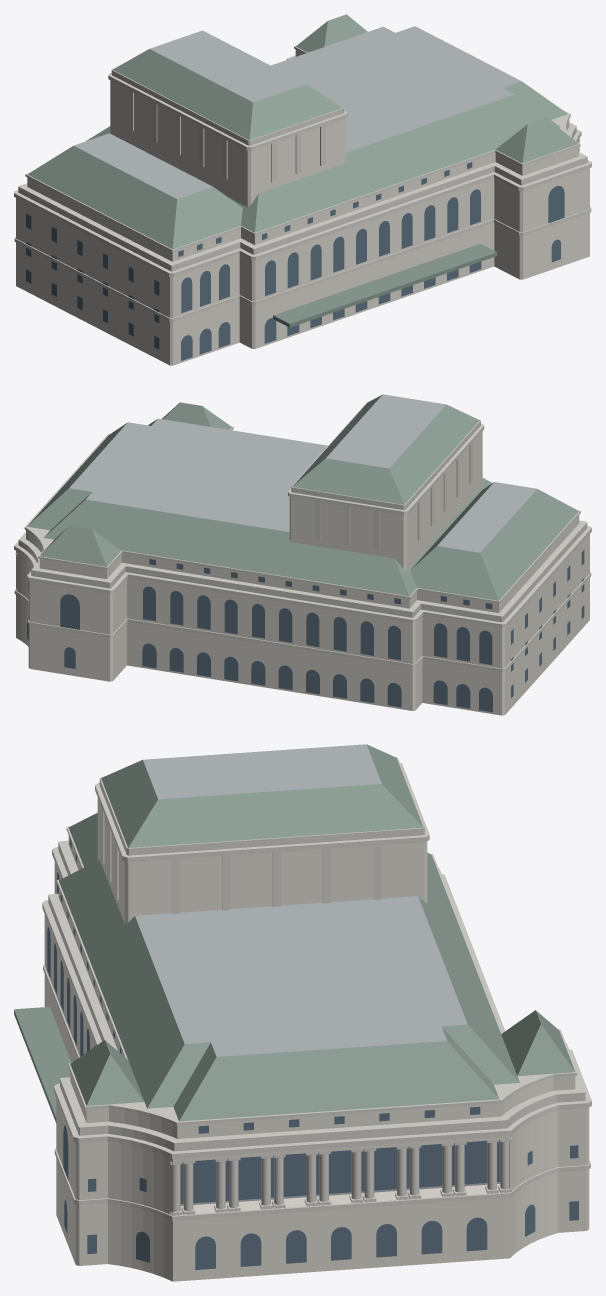
Rendered from detail.glb.
3 renders of one model, top to bottom at view 1: azimuth 30°, elevation 25°; view 2: azimuth 150°, elevation 25°; view 3: azimuth 270°, elevation 25°, orthographic. The views are drawn at different scales.
Parts seen in each view (by area): view 1: war-memorial-opera-house; view 2: war-memorial-opera-house; view 3: war-memorial-opera-house.
Part boxes in pixels (left/top/right/bottom): war-memorial-opera-house: left=14, top=14, right=591, bottom=365; war-memorial-opera-house: left=14, top=394, right=591, bottom=715; war-memorial-opera-house: left=14, top=744, right=591, bottom=1281.
Size of the model in its own units: 112 by 46.4 by 82.6.
